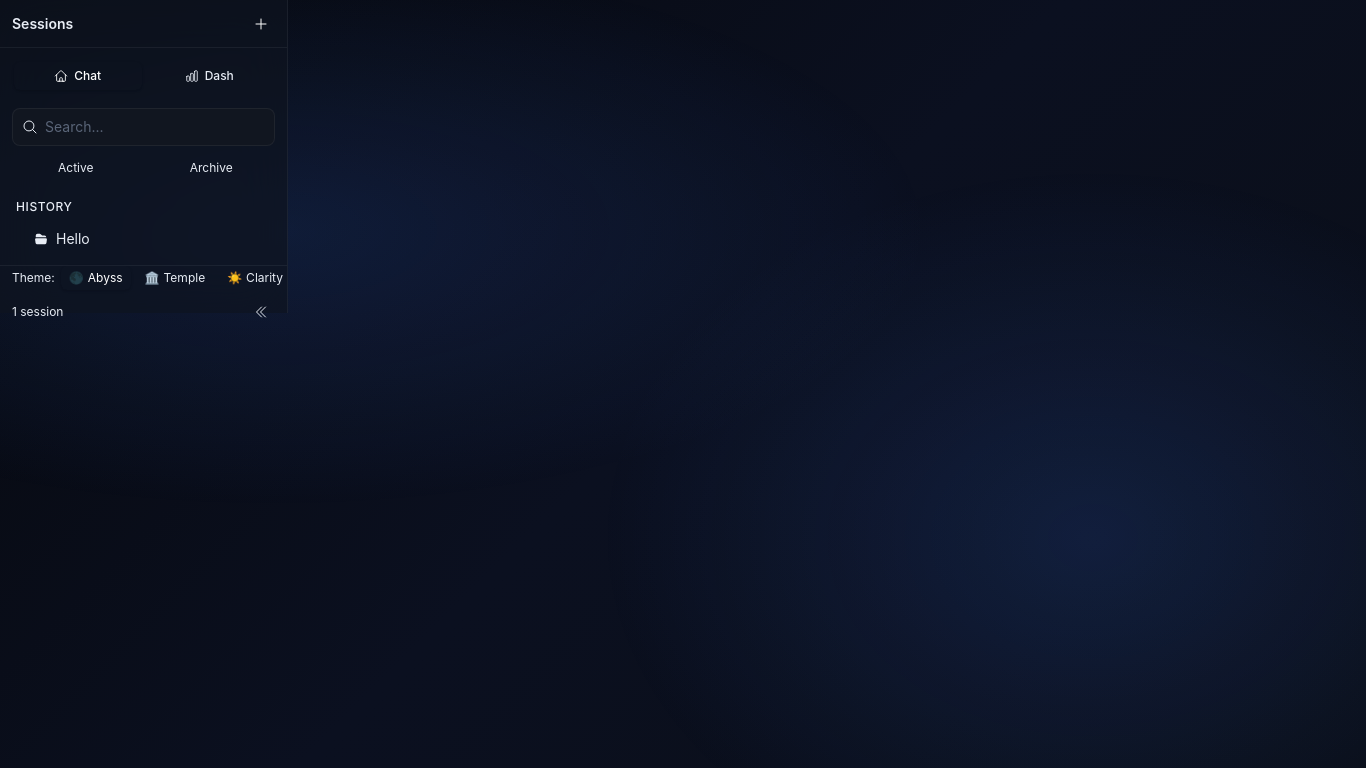
Test case: Sidebar › session list › shows 'No sessions match' when search yields no results
Expected: the text "Hello" is shown, [56, 230, 90, 247]
Type "nonexistent" into the field with placeholder "Search..." at (144, 127), box [12, 108, 275, 146]
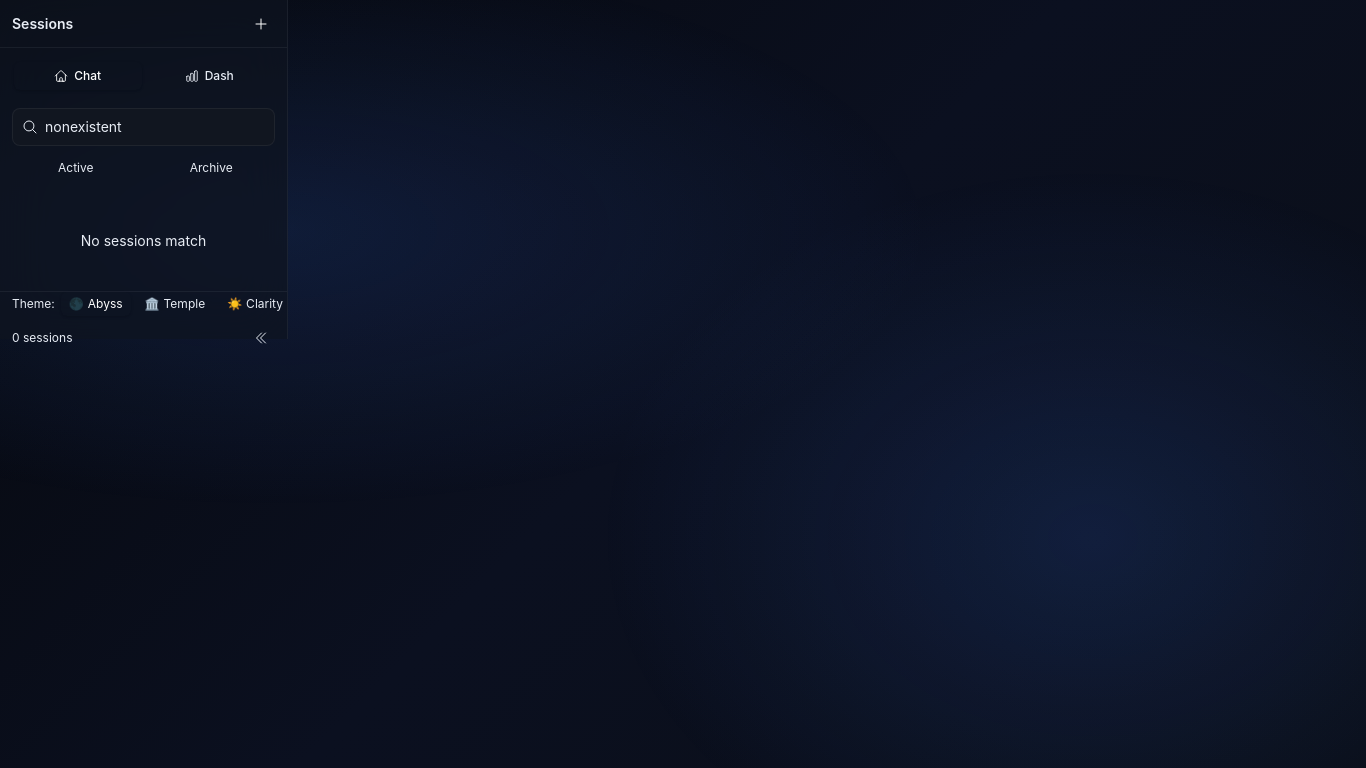
Now the text "No sessions match" is shown, box [81, 232, 206, 249]
